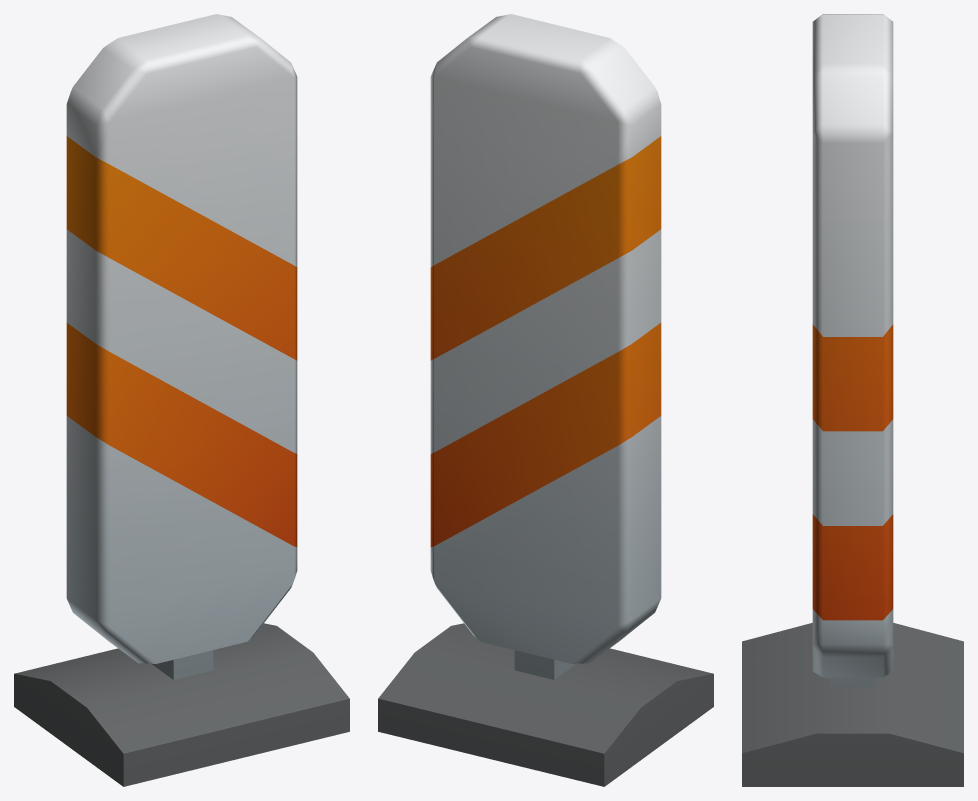
The model's file is Barrier_08.fbx.
3 views of the same model, side by side, from view 1: azimuth 30°, elevation 25°; view 2: azimuth 150°, elevation 25°; view 3: azimuth 270°, elevation 25° (orthographic).
Visible parts, largest first — view 1: Barrier_08; view 2: Barrier_08; view 3: Barrier_08.
Boxes of the visible parts, bbox=[...] form: Barrier_08: bbox=[14, 14, 349, 786]; Barrier_08: bbox=[378, 14, 713, 786]; Barrier_08: bbox=[742, 14, 963, 786].
Bounding box in the file's own units: 45.83 × 38.38 × 132.
